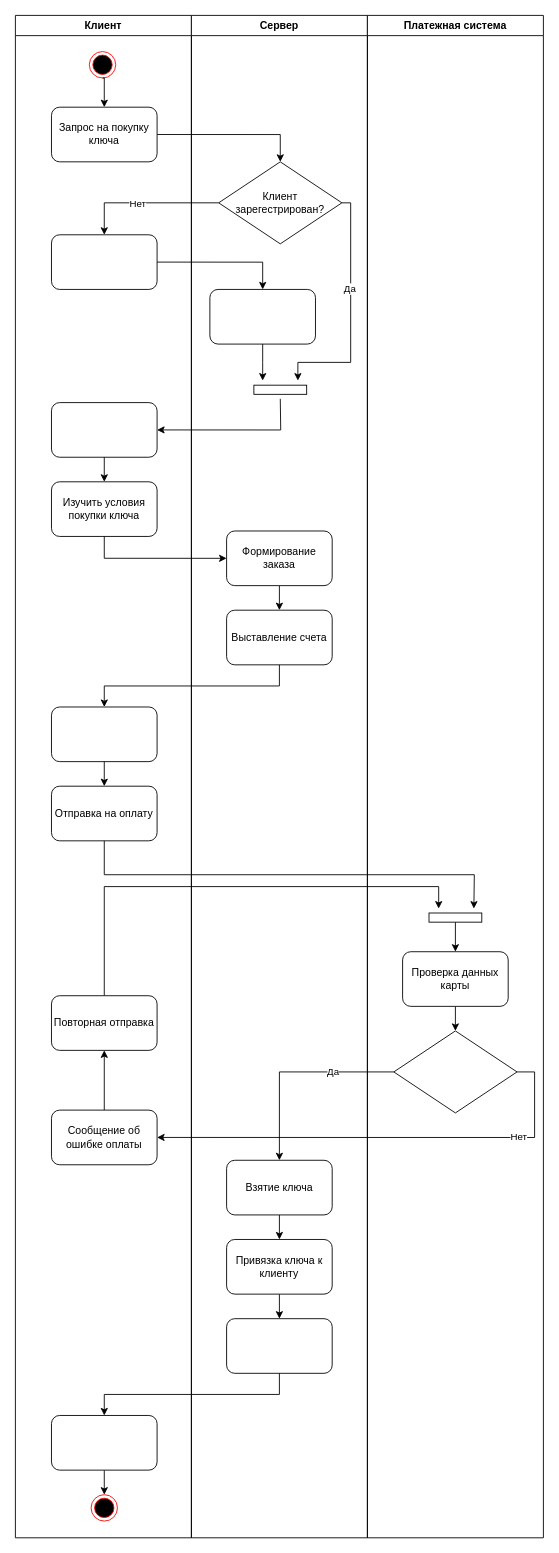
The diagram is 559 pixels wide and 1553 high, and some of its shapes have lost their labels. Each missing label, with the centre of its shape:
"Ввести данные для регистрации" belongs at point (104, 261).
"Ввод данных банковской карты" belongs at point (104, 734).
"Выбрать ключ" belongs at point (104, 429).
"Передача ключа клиенту" belongs at point (279, 1345).
"Получение ключа" belongs at point (104, 1442).
"Регистрация клиента" belongs at point (262, 316).
"Транзакция проведена?" belongs at point (455, 1071).
